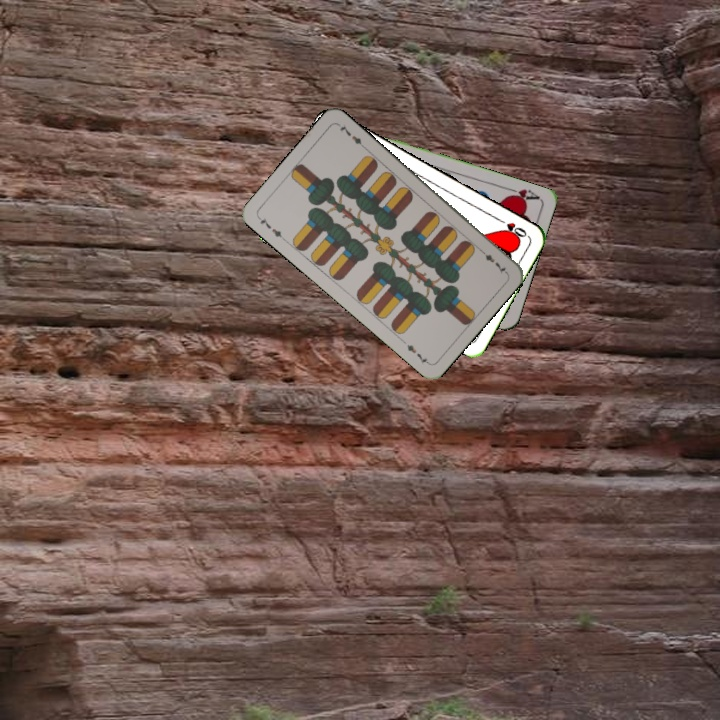E7: (475, 245, 509, 276), (254, 213, 288, 243)
HA: (502, 183, 542, 205)
HO: (493, 214, 529, 241)
